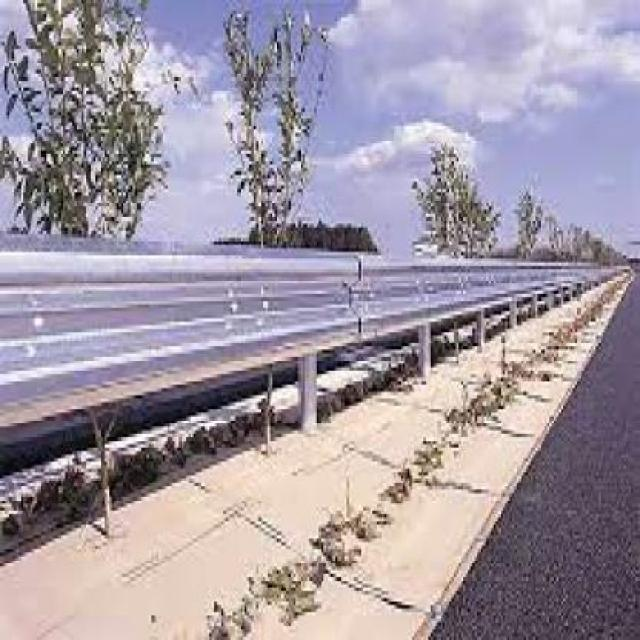Guard rail: (1, 218, 622, 444)
